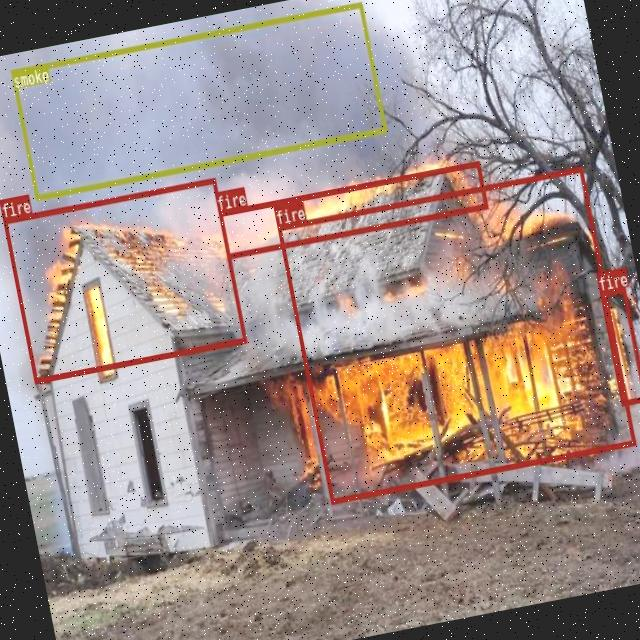fire: (276, 166, 634, 503), (2, 178, 246, 384), (218, 160, 488, 258), (599, 286, 640, 405)
smoke: (10, 1, 387, 200)
